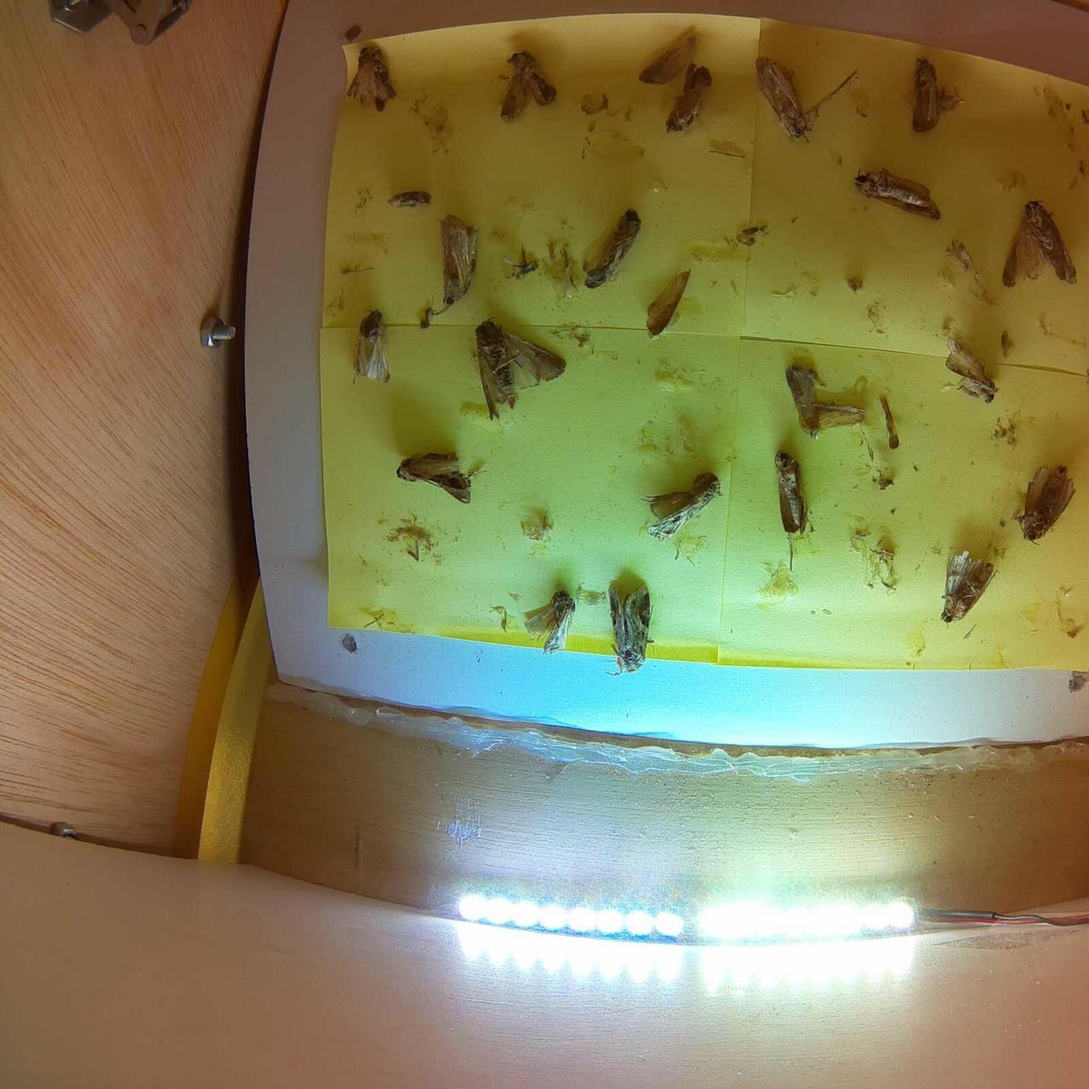Spodoptera litura: (475, 315, 566, 420), (755, 56, 858, 141), (1003, 202, 1078, 287), (641, 471, 721, 542), (856, 168, 944, 221), (584, 208, 641, 288), (1019, 465, 1075, 544), (940, 550, 995, 630), (435, 214, 476, 318), (606, 584, 652, 676), (501, 48, 557, 123), (396, 451, 471, 505), (346, 44, 398, 113), (947, 337, 998, 406), (664, 60, 712, 132), (525, 588, 574, 654), (774, 449, 809, 534), (351, 309, 390, 385), (914, 57, 941, 134)
